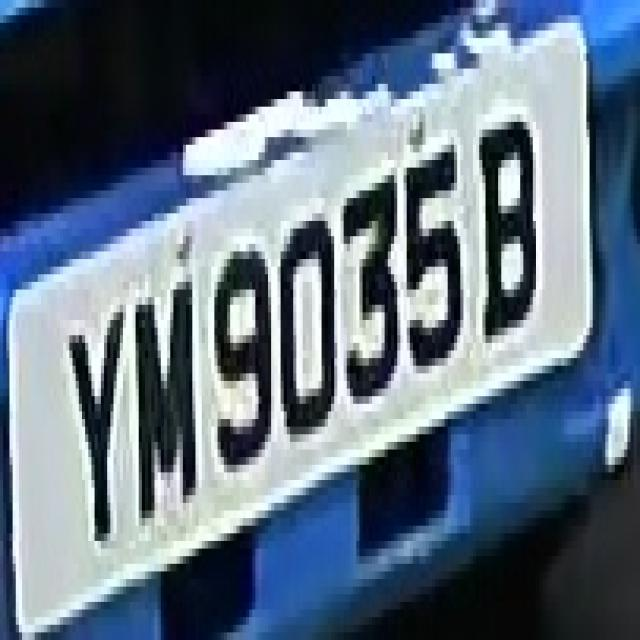0: (271, 190, 344, 450)
3: (344, 160, 406, 404)
5: (404, 114, 464, 373)
9: (212, 244, 274, 480)
B: (470, 122, 533, 381)
M: (129, 266, 202, 526)
Y: (60, 290, 126, 548)
